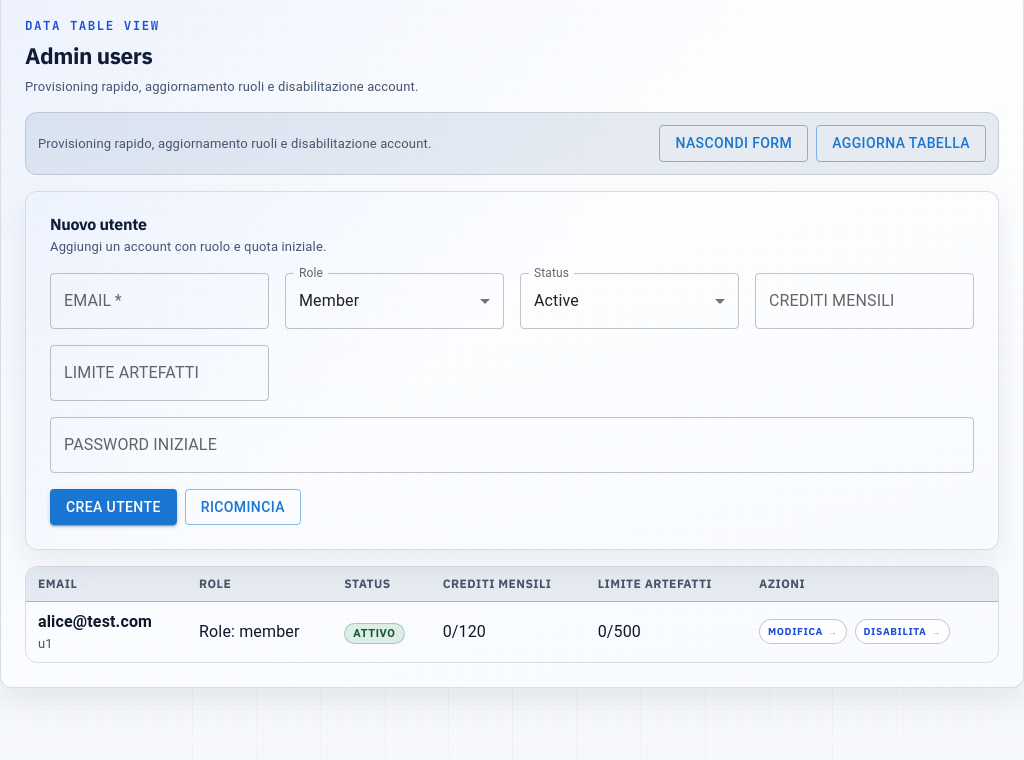
Scenario: AdminUsersPage › updates an existing user inline
The image size is (1024, 760).
Expected: the text "alice@test.com" is shown, 38,612 -> 152,631
Click the button "Modifica".
click(803, 632)  # box 759,619 -> 847,644
(page scrolled)
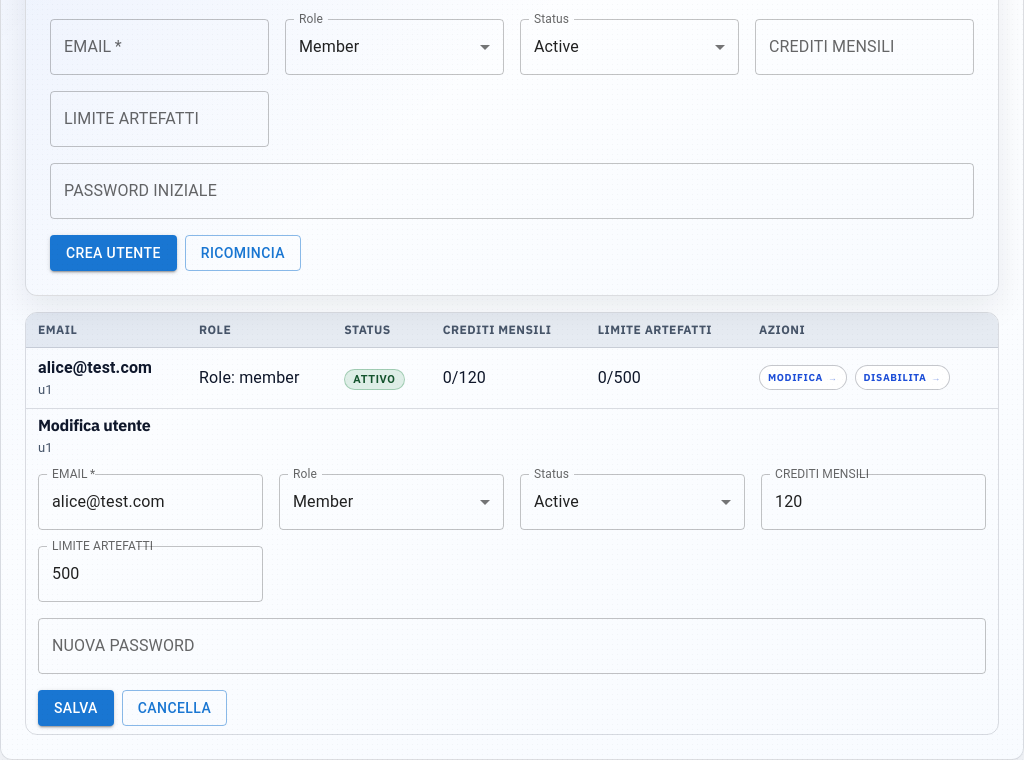
Result: the form "Modifica utente" is shown at 38,417 -> 986,726
Replace the text in the field labelled "Email *" below "Modifica utente" with "alice-admin@test.com" at (150, 502), box 38,474 -> 263,530
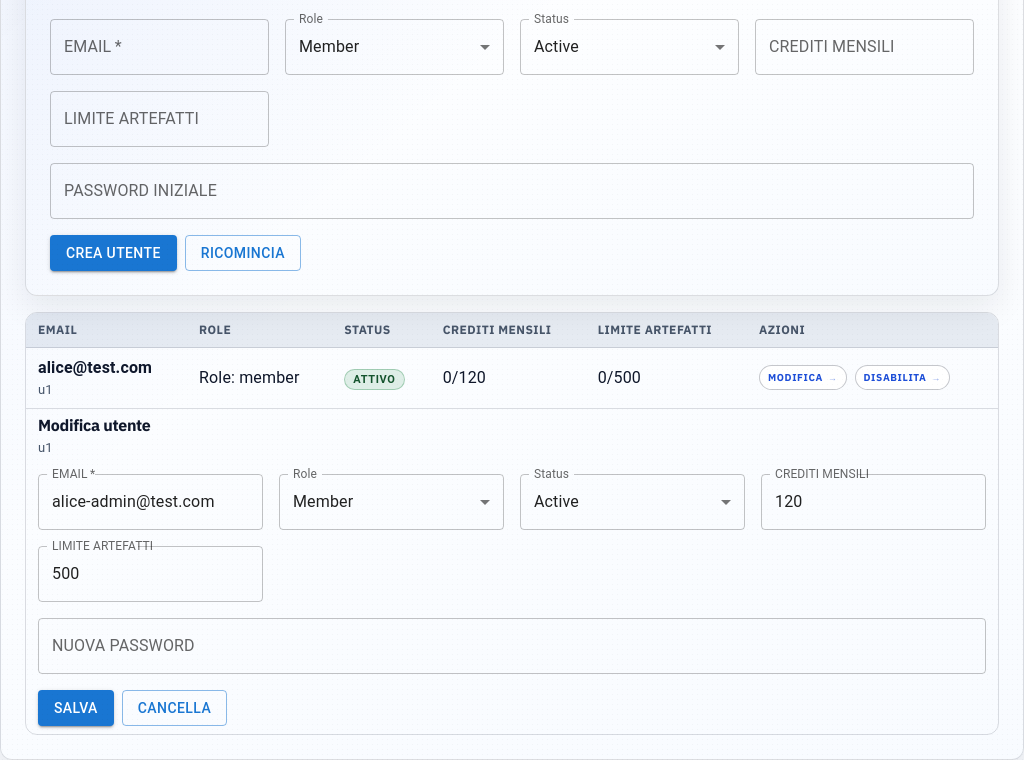
Replace the text in the field named "role" with "admin" at (392, 502), box 279,474 -> 504,530
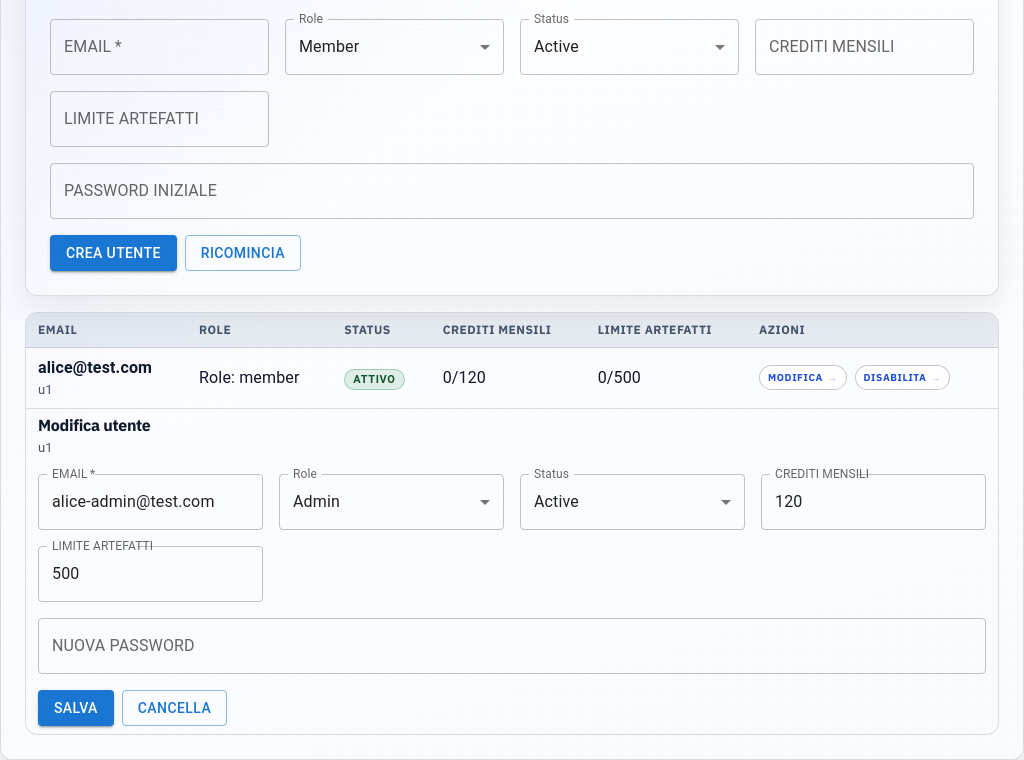
Click the button "Salva".
click(76, 708)  # box 38,690 -> 114,726
(page scrolled)
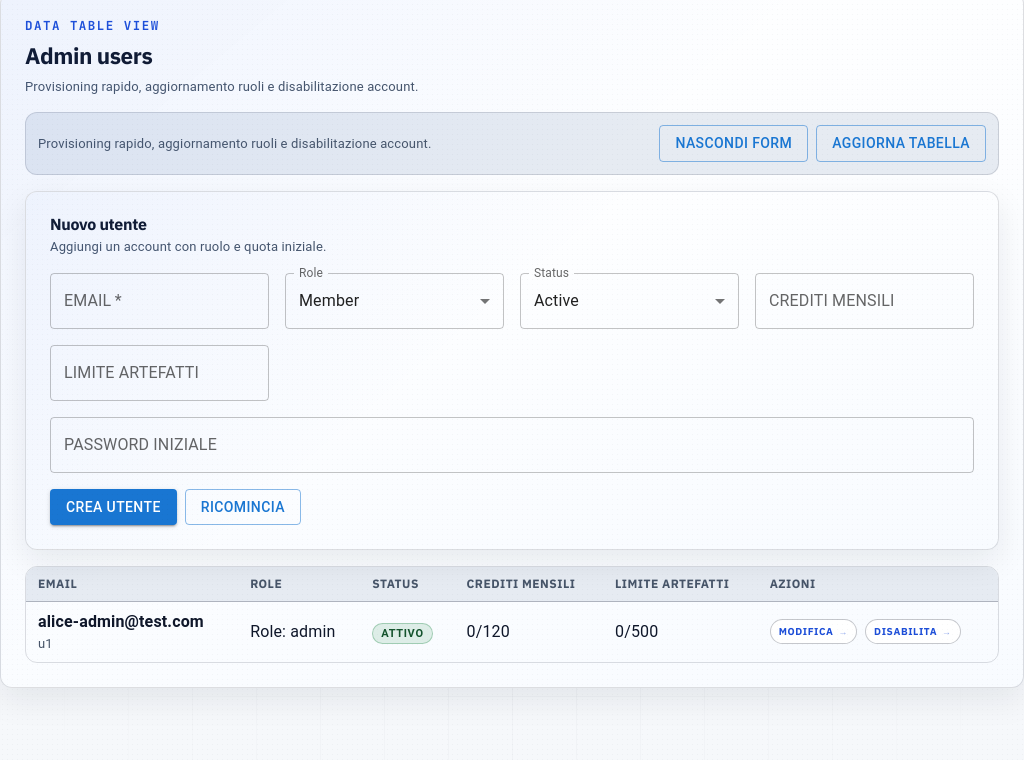
Result: the text "alice-admin@test.com" is shown at 38,612 -> 204,631
Result: the text "Role: admin" is shown at 238,602 -> 360,662
